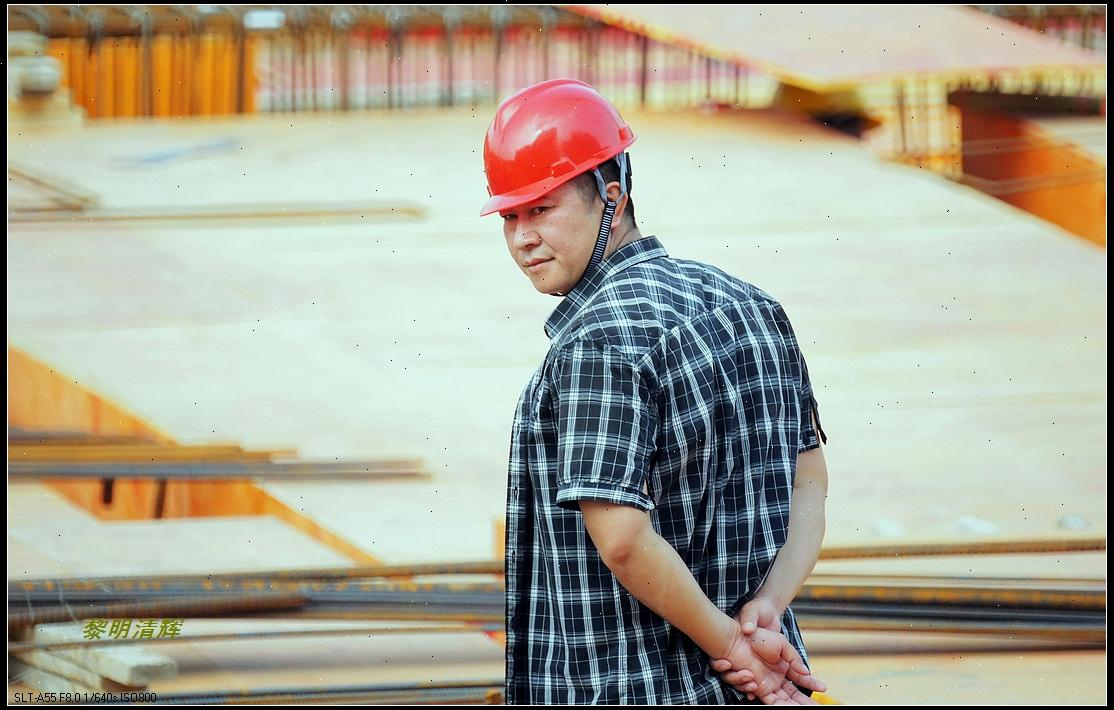helmet: (477, 76, 638, 216)
no_wear: (511, 297, 819, 707)
